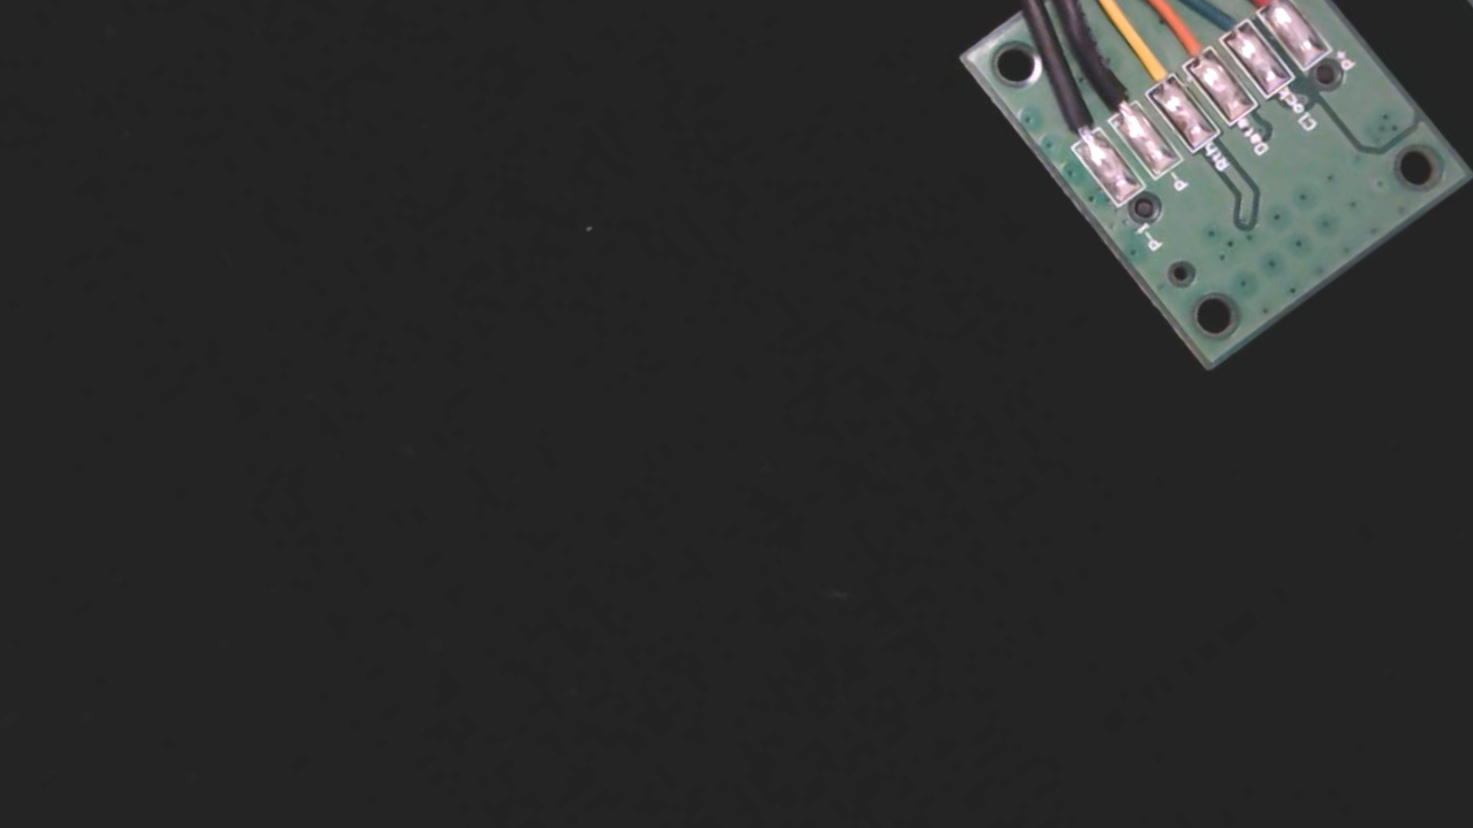Black: (1068, 47, 1149, 133)
Black1: (1029, 75, 1111, 161)
Green: (1178, 0, 1263, 56)
Orange: (1138, 0, 1223, 82)
Red: (1215, 0, 1298, 26)
Yellow: (1100, 13, 1189, 106)
